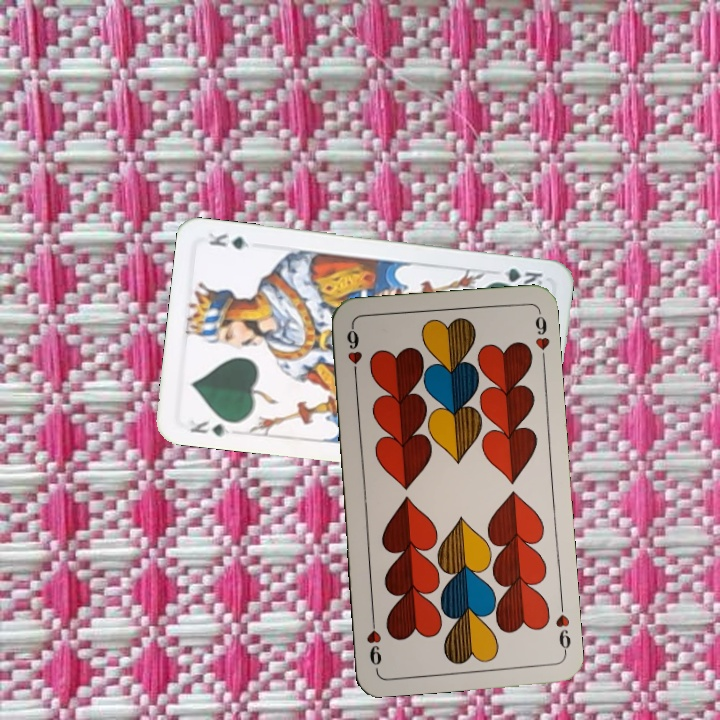GK: (488, 264, 548, 288), (185, 416, 233, 439)
H9: (551, 598, 574, 657), (343, 323, 365, 382)
